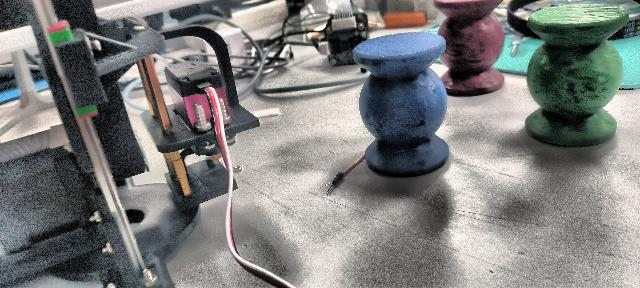blue: (352, 31, 450, 177)
green: (522, 0, 627, 147)
red: (432, 0, 511, 94)
